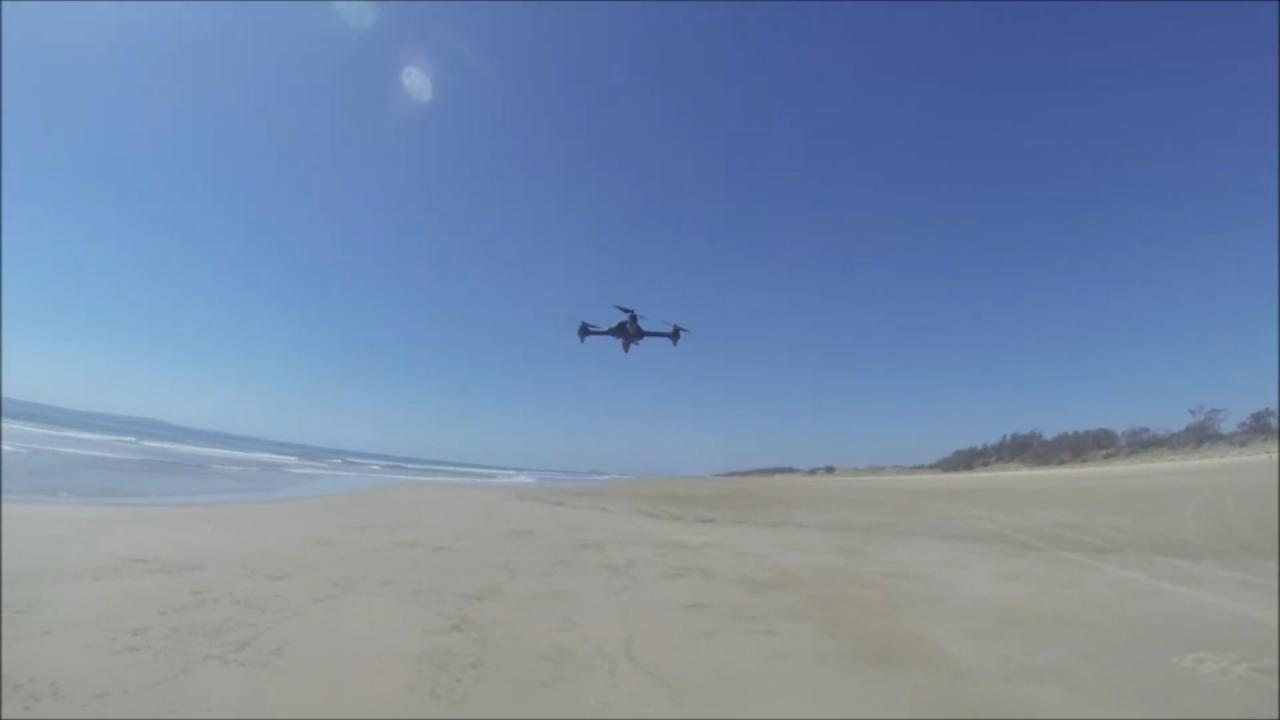Drone: (559, 296, 701, 366)
